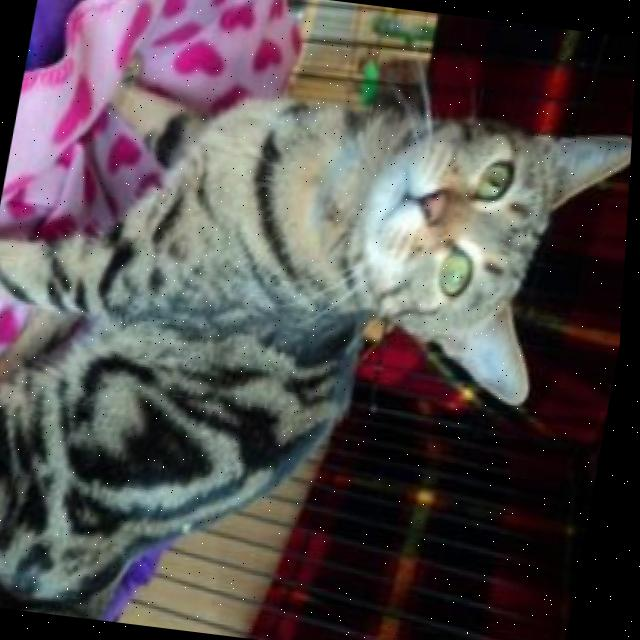Bengal: (0, 31, 639, 640)
